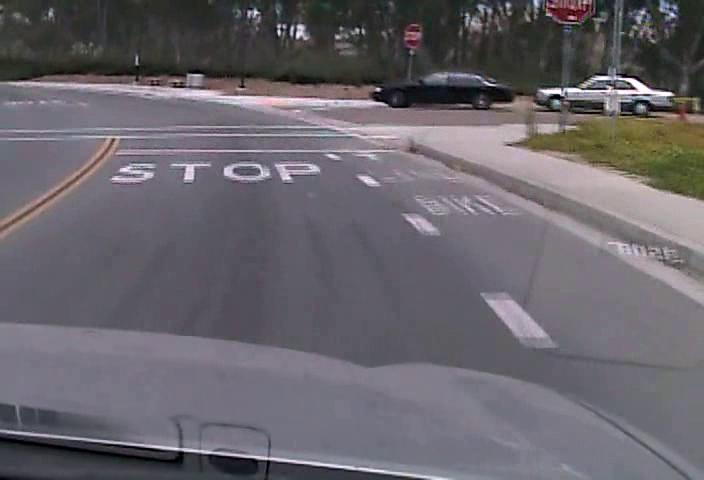stop: (403, 22, 423, 48)
